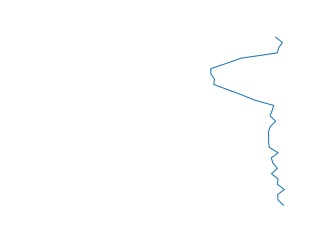distalBar: (205, 37, 288, 206)
